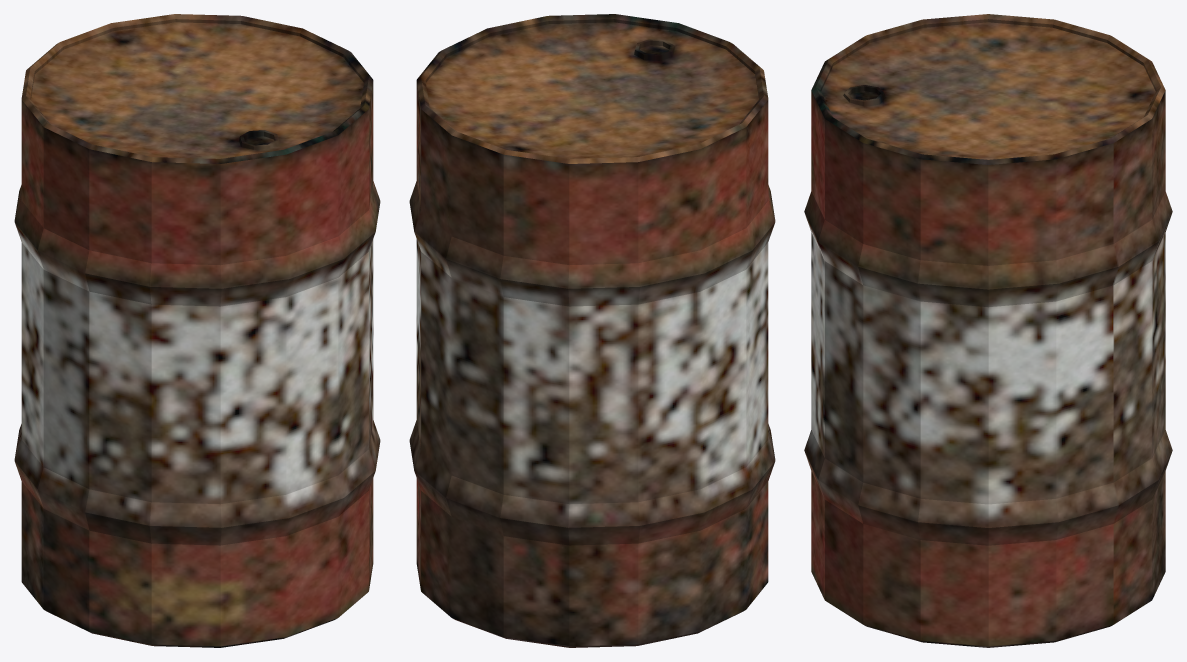
3 views of the same model, side by side, from view 1: azimuth 30°, elevation 25°; view 2: azimuth 150°, elevation 25°; view 3: azimuth 270°, elevation 25° (orthographic).
Visible parts, largest first — view 1: metal_barrel_1; view 2: metal_barrel_1; view 3: metal_barrel_1.
Boxes of the visible parts, x1,y1,x2,y2 form: metal_barrel_1: [14, 14, 380, 647]; metal_barrel_1: [409, 14, 775, 647]; metal_barrel_1: [804, 14, 1172, 647].
Size of the model in its own units: 0.7488 by 1.09 by 0.7488.
Materials: 1 (1 with a texture image).
